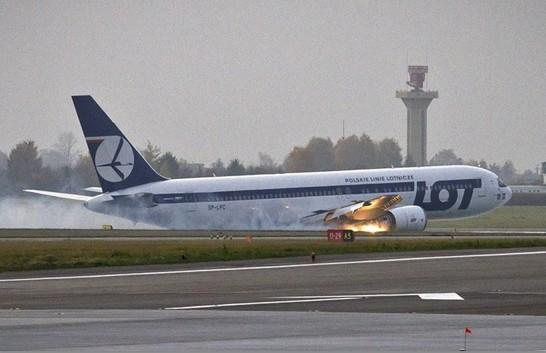airplane: (12, 94, 520, 243)
